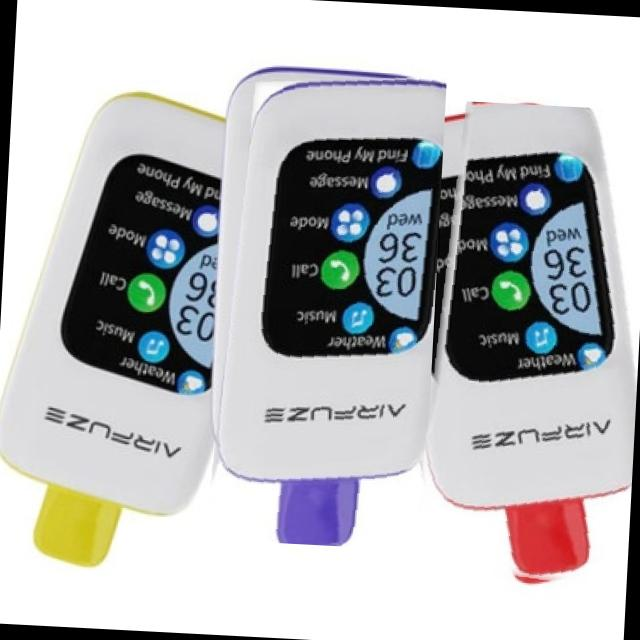Hazard: (203, 62, 447, 550), (409, 98, 640, 591)
